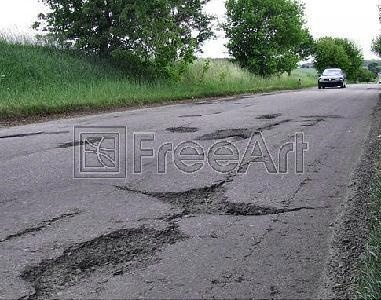pothole: (16, 223, 187, 299), (142, 181, 281, 214), (193, 126, 256, 141), (164, 124, 197, 132)
